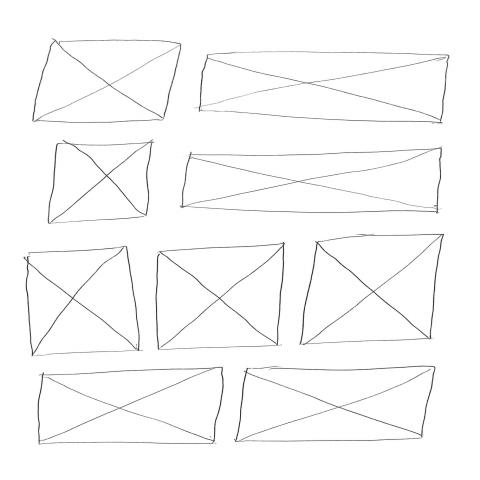Image: (196, 51, 450, 126), (180, 148, 445, 215), (299, 234, 446, 346), (234, 366, 437, 444), (37, 367, 226, 446), (156, 243, 287, 351), (26, 246, 142, 358), (32, 40, 183, 124), (48, 140, 155, 225)
